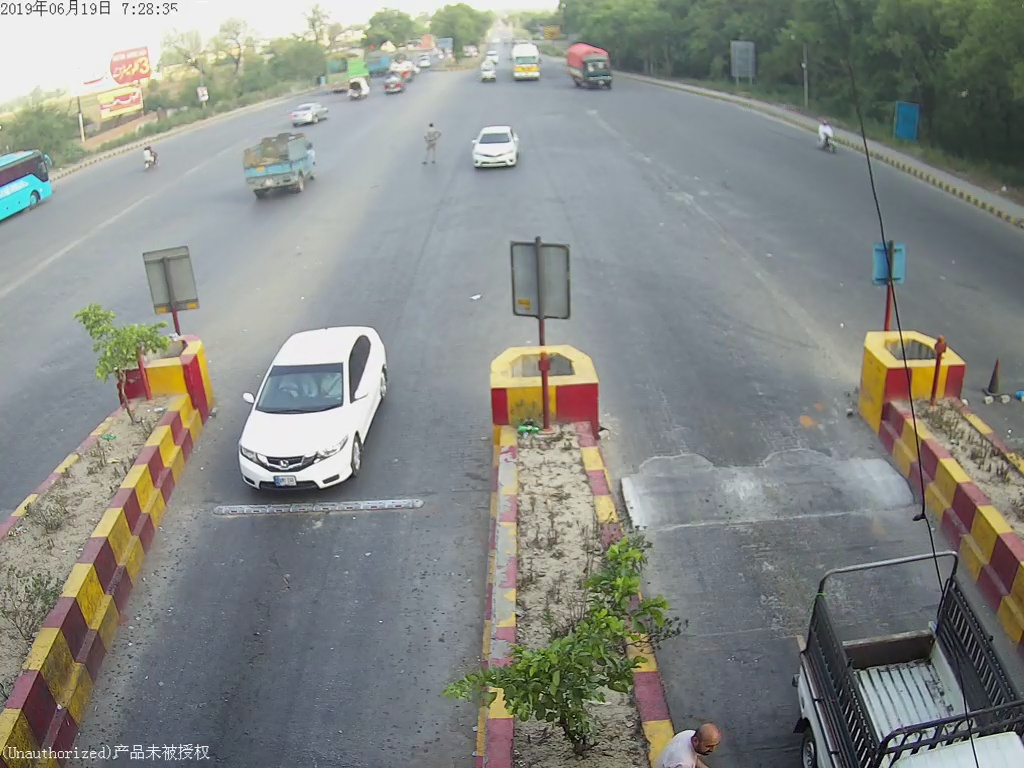Cat-1: (231, 309, 407, 502), (464, 124, 526, 179)
